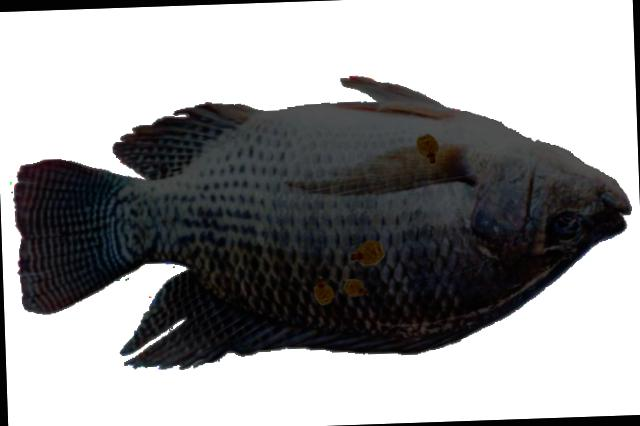Parasitic Disease: (16, 77, 628, 366), (16, 77, 628, 366)
